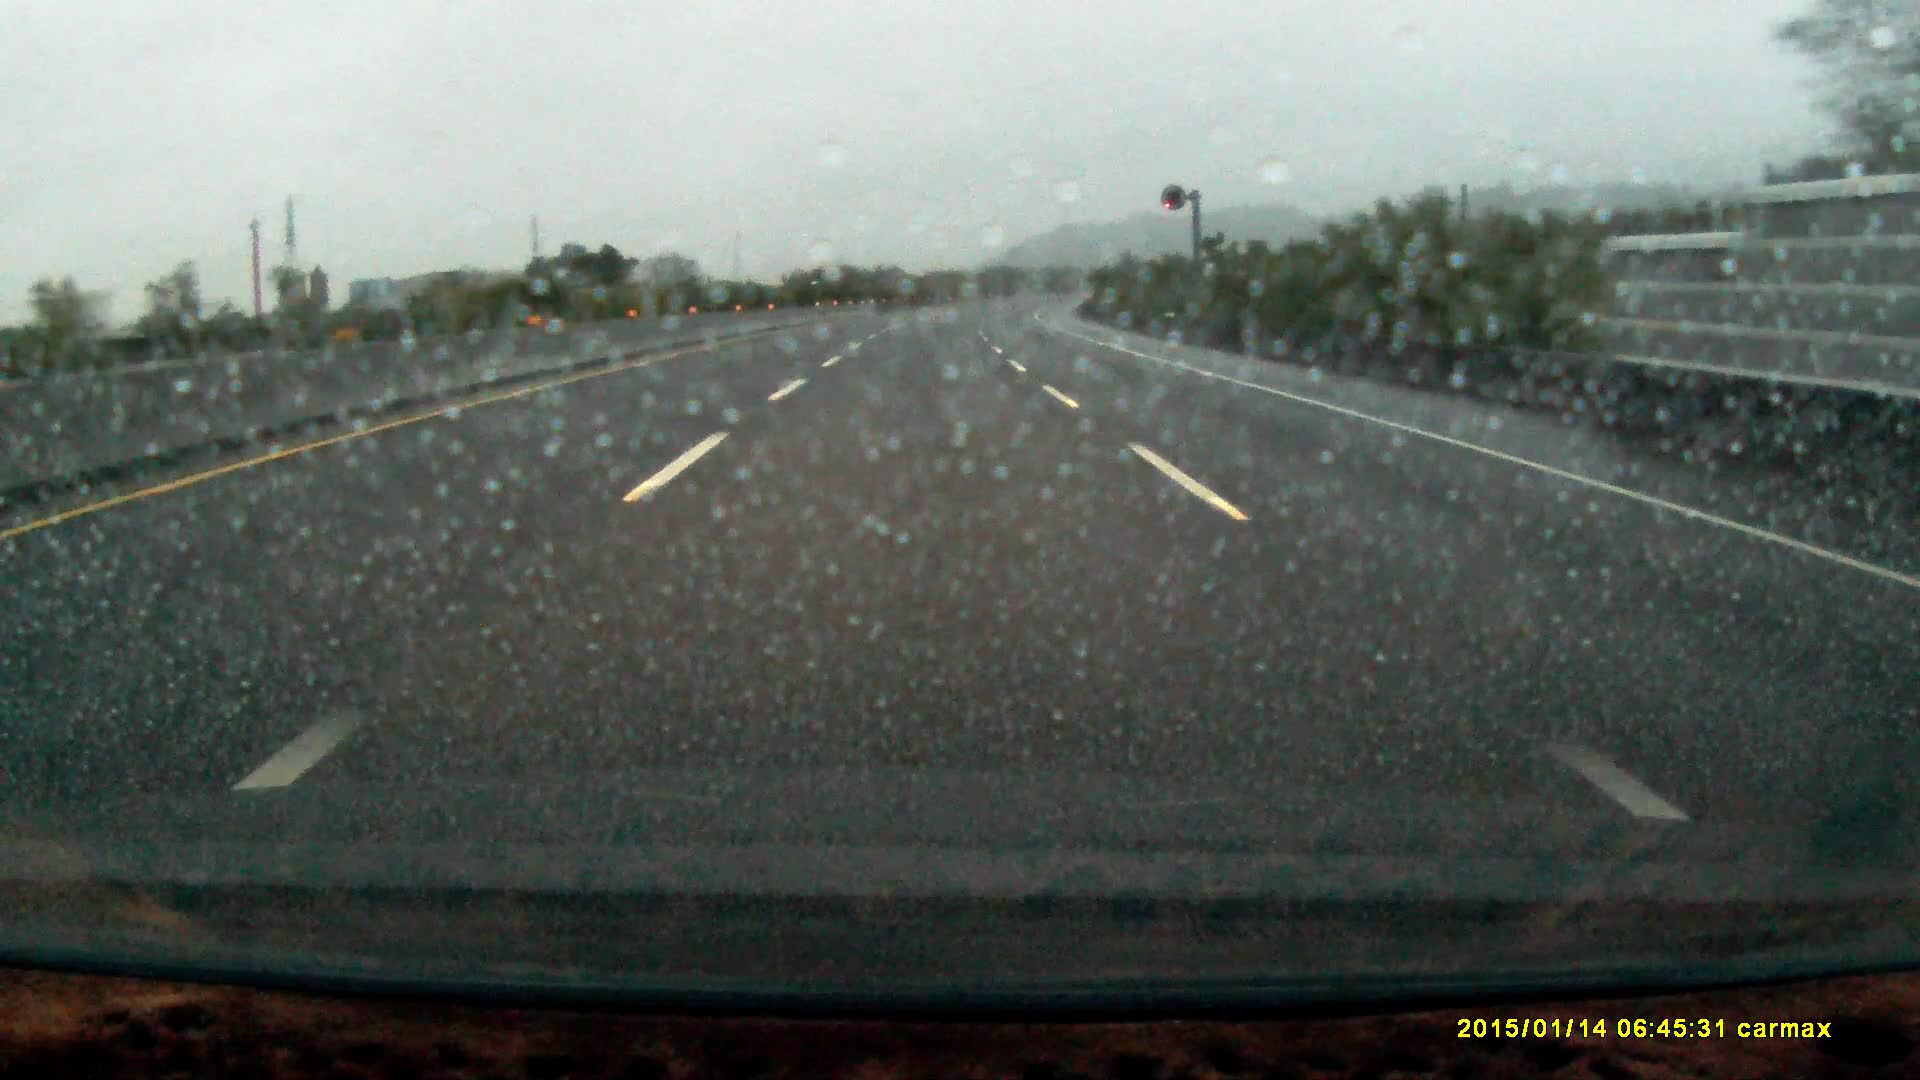vehicle: (808, 268, 849, 305)
